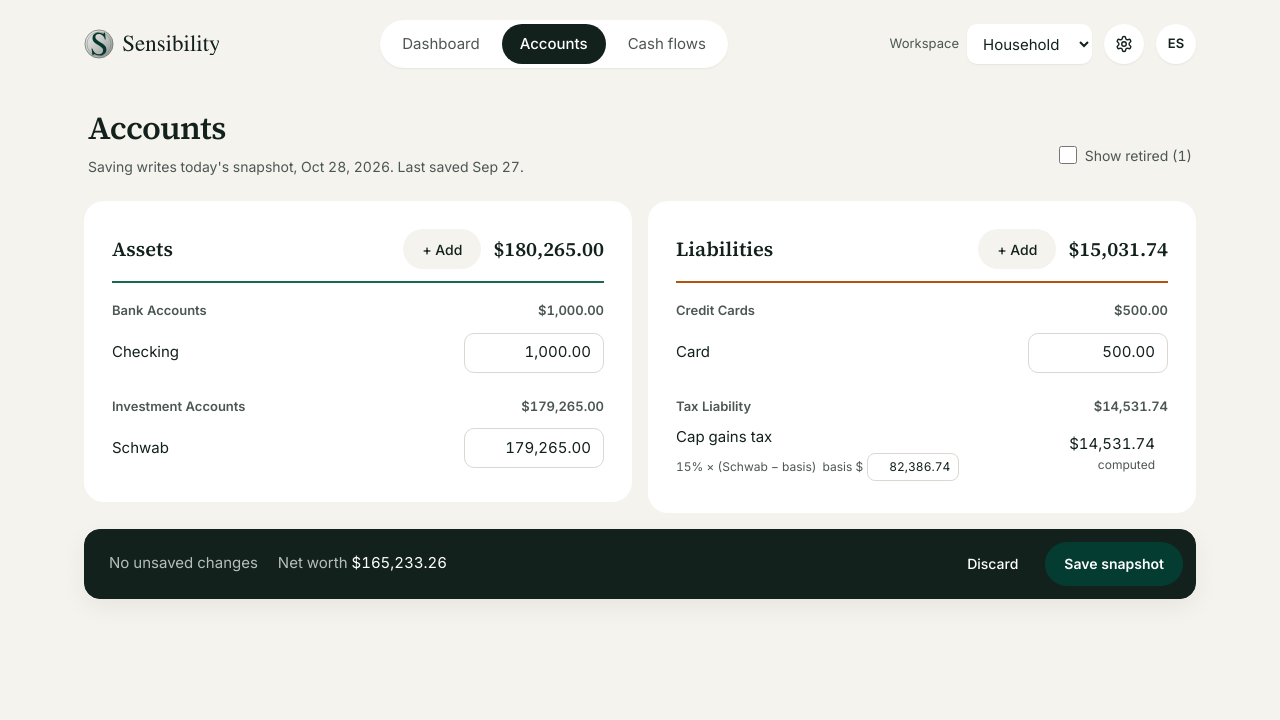
Scenario: a drawer opens at once › an account from its row: the form at once, the history after
Click the link "Checking": (146, 353) [112,341,179,364]
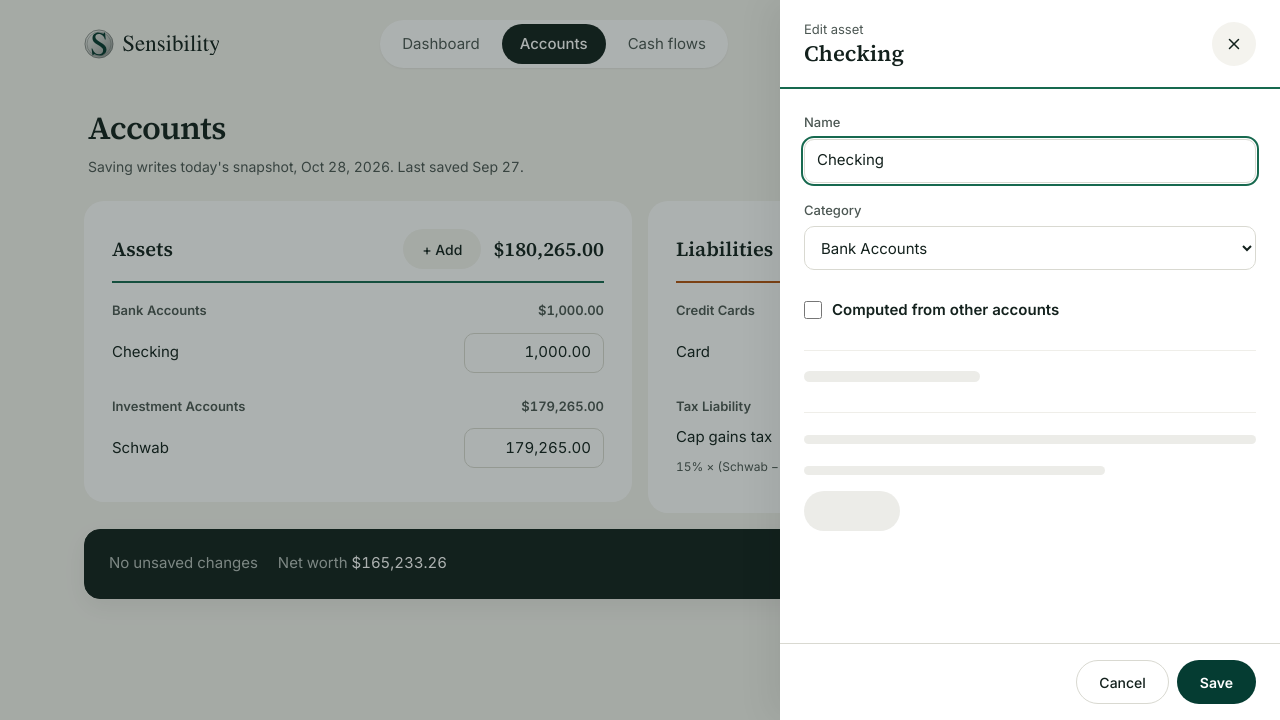
Expected: the dialog "Checking" shows "Edit asset", [804,21,864,37]
Note: What's typed survives the detail landing.
In the field labelled "Name": (1030, 160) [804,138,1256,182], type " account"
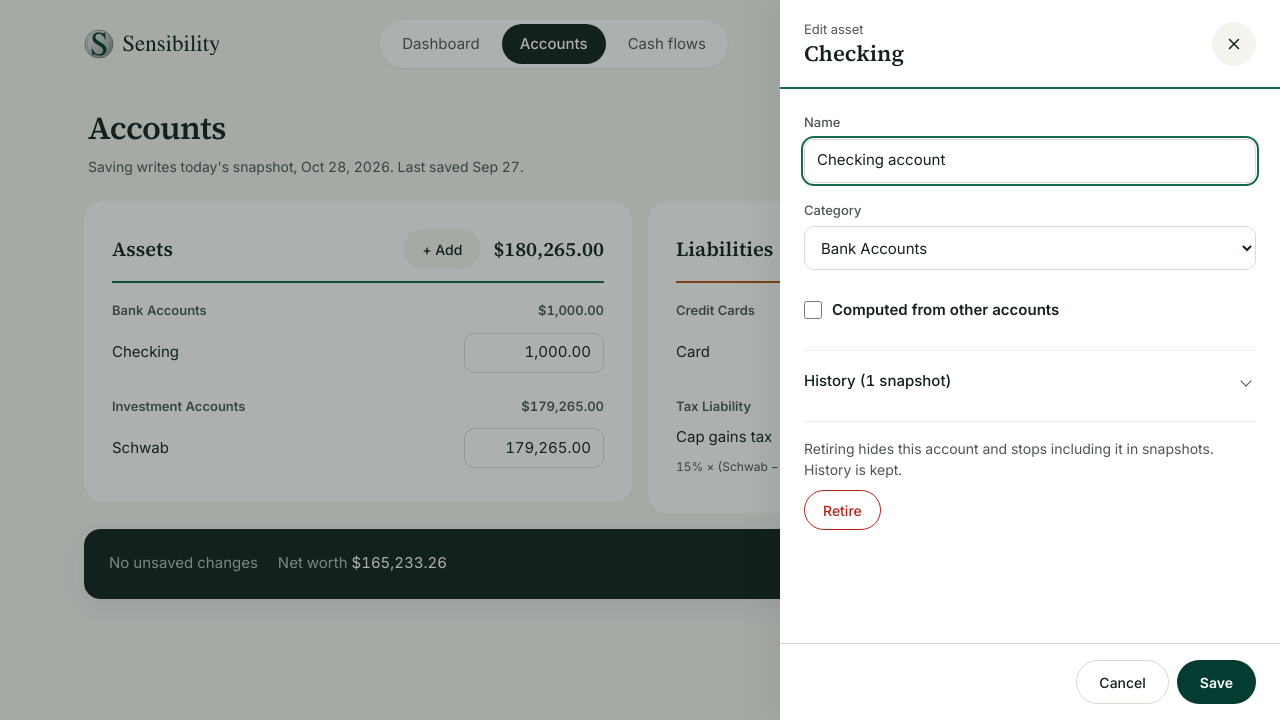
Expected: the element named "Retire" is shown, [804,421,1256,530]
Expected: the field labelled "Name" holds "Checking account", [804,138,1256,182]
